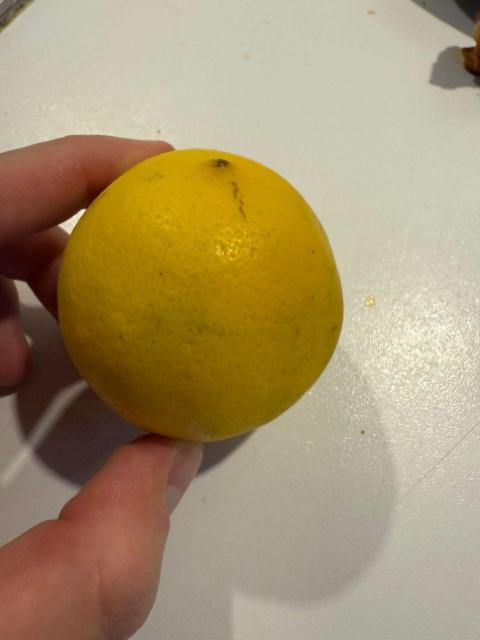Organik: (53, 147, 341, 441)
